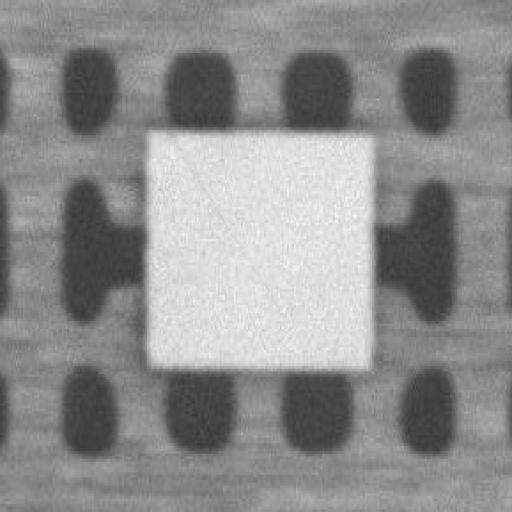DIE_CRACK: (249, 86, 427, 212)
